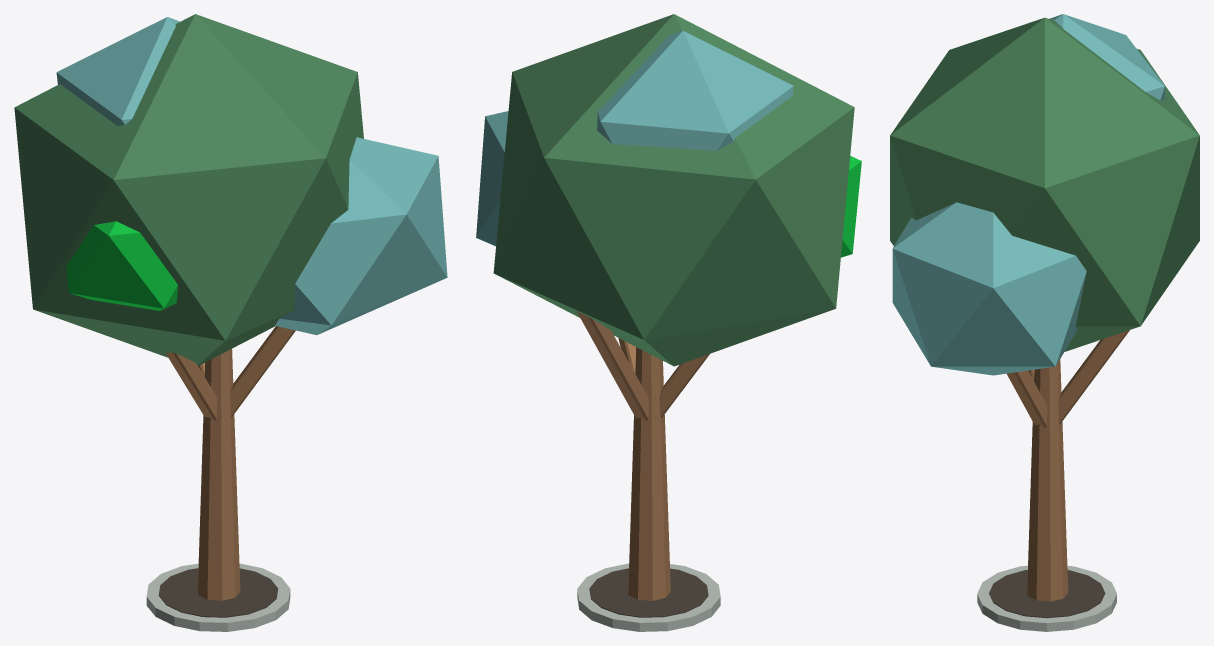
Rendered from gh_tree_v01.glb.
3 views of the same model, side by side, from view 1: azimuth 30°, elevation 25°; view 2: azimuth 150°, elevation 25°; view 3: azimuth 270°, elevation 25° (orthographic). The views are drawn at different scales.
Visible parts, largest first — view 1: Branching campus shade tree; view 2: Branching campus shade tree; view 3: Branching campus shade tree.
Part boxes in pixels (x1,y1,x2,y2): Branching campus shade tree: (14, 14, 447, 631); Branching campus shade tree: (476, 14, 861, 631); Branching campus shade tree: (890, 14, 1199, 631).
Bounding box in the file's own units: 3.92 × 5.88 × 2.88.
1 material, 1 textured.
